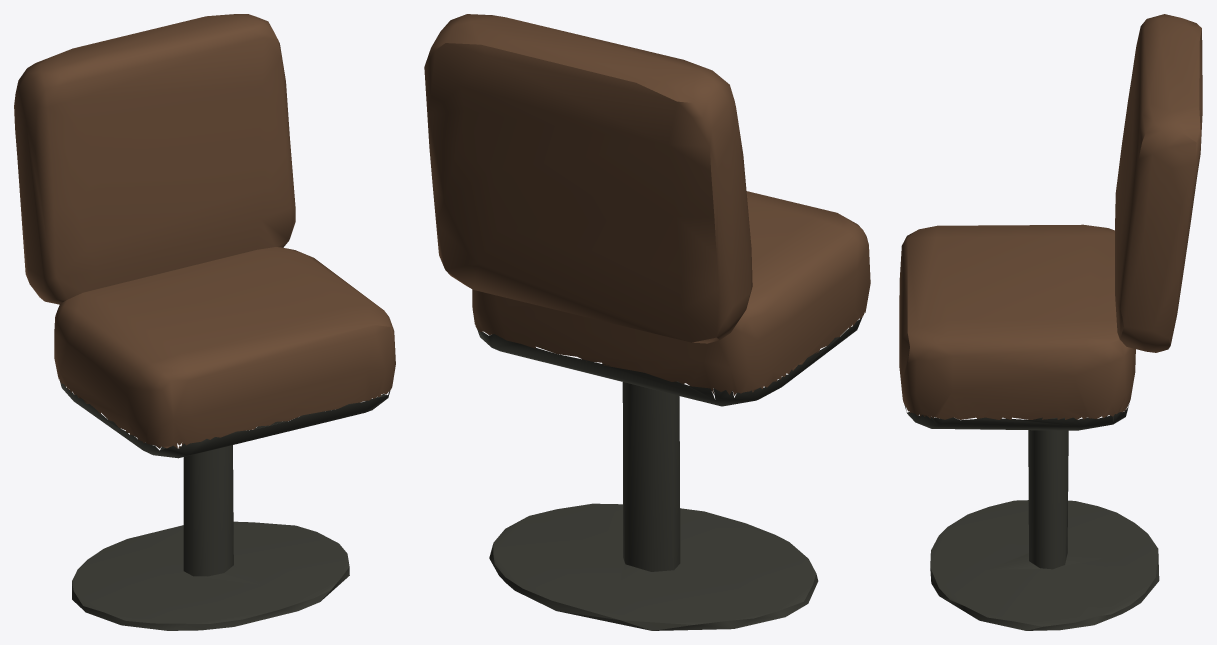
File: chair.glb
3 views of the same model, side by side, from view 1: azimuth 30°, elevation 25°; view 2: azimuth 150°, elevation 25°; view 3: azimuth 270°, elevation 25° (orthographic). The views are drawn at different scales.
Parts seen in each view (by area): view 1: chair_fabric, chair_base; view 2: chair_fabric, chair_base; view 3: chair_fabric, chair_base.
Part boxes in pixels (x1,y1,x2,y2): chair_fabric: (14,14,395,448); chair_base: (59,380,390,630); chair_fabric: (424,14,870,395); chair_base: (477,317,862,630); chair_fabric: (899,14,1202,419); chair_base: (904,404,1159,630).
Bounding box in the file's own units: 0.5996 × 1.1 × 0.6011.
